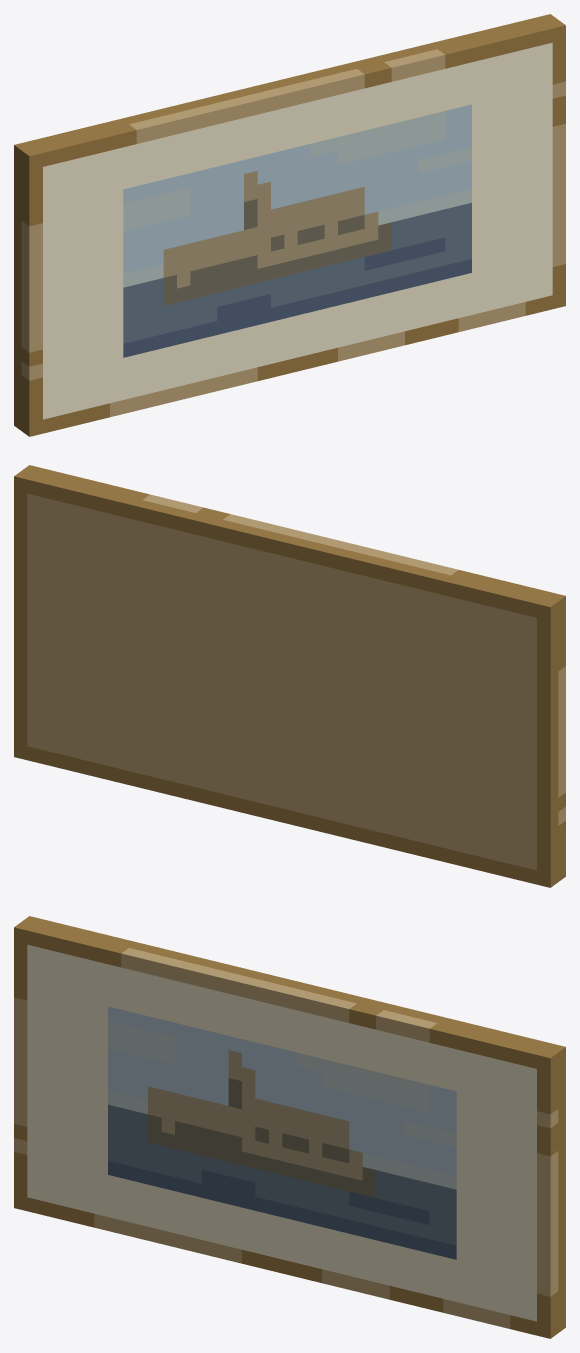
Rendered from pic1.obj.
3 renders of one model, top to bottom at view 1: azimuth 30°, elevation 25°; view 2: azimuth 150°, elevation 25°; view 3: azimuth 330°, elevation 25°, orthographic.
Bounding box in the file's own units: 4 × 2 × 0.2.
Materials: 1 (1 with a texture image).
